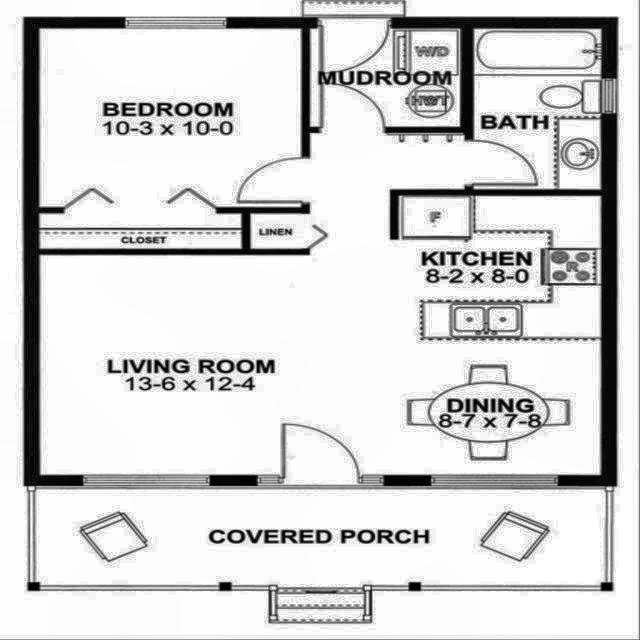room: (41, 132, 601, 476), (39, 28, 303, 249), (36, 489, 604, 583), (476, 29, 602, 190), (310, 30, 459, 125), (252, 214, 304, 249)
